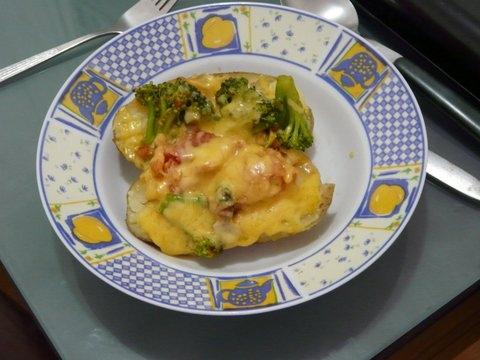broccoli: (132, 76, 208, 145), (252, 74, 314, 152), (215, 76, 256, 109), (159, 192, 209, 214), (192, 238, 224, 259), (220, 187, 231, 202)
lemon: (72, 215, 112, 242), (202, 21, 234, 49), (370, 184, 397, 214), (72, 228, 102, 244), (202, 16, 224, 36), (390, 185, 406, 204)
potato: (112, 72, 315, 170)
